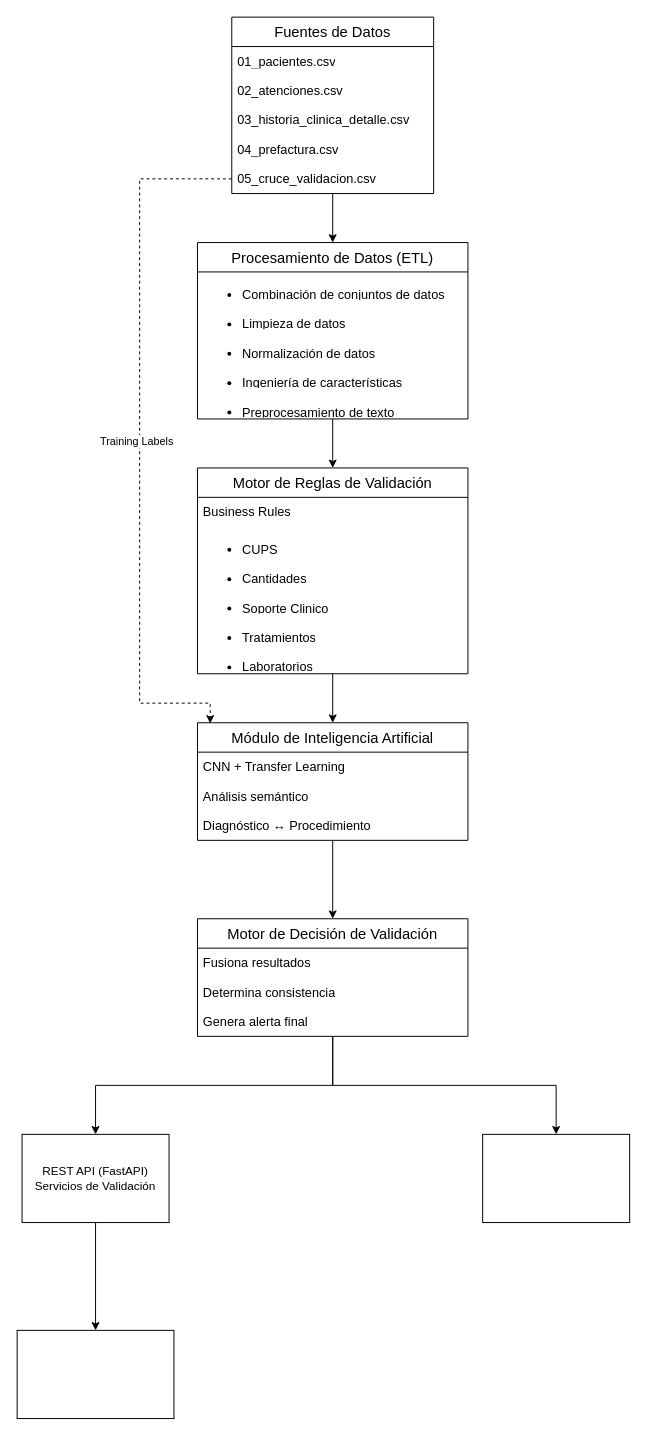
Image size: 647x1436. Some labels were removed from this diagram. Each missing label, with the centre of its shape:
Dashboard(Streamlit) Alertas * Reportes * KPIs * Historial: pixel 95 1374
Métricas del Modelo Accuracy, F1, ect.: pixel 556 1178
